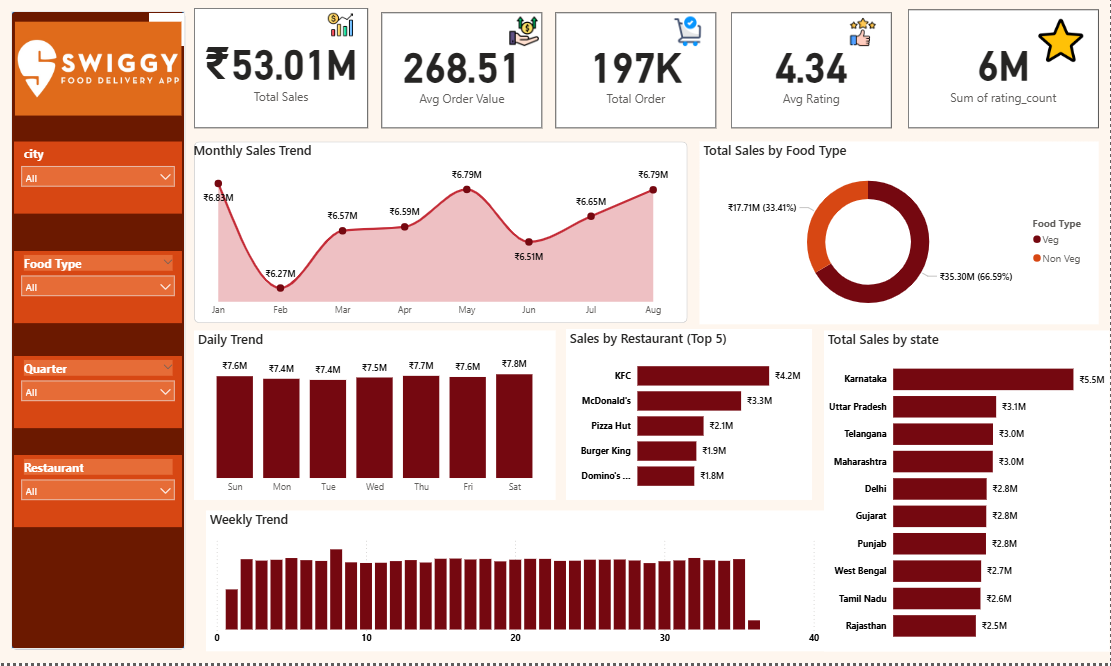

The page's visual inventory and layout, read from the dashboard file:
{"tool":"powerbi","page":{"name":"Page 1","canvas":[1500,900],"ordinal":0},"visuals":[{"type":"shape","box":[15.5,19.9,235,861.5],"z":0},{"type":"card","fields":{"Values":["fact_orders.Total Sales"]},"box":[263.1,16.2,234.8,161.9],"z":1000},{"type":"card","fields":{"Values":["fact_orders.Avg Order Value"]},"box":[516.1,22.3,216.6,155.9],"z":2000},{"type":"card","fields":{"Values":["fact_orders.Total Order"]},"box":[750.9,22.3,216.6,155.9],"z":3000},{"type":"card","fields":{"Values":["fact_orders.Avg Rating"]},"box":[987.7,22.3,216.6,155.9],"z":4000},{"type":"image","box":[423,16.2,74.9,44.5],"z":5000},{"type":"image","box":[665.9,22.3,85,50.6],"z":6000},{"type":"image","box":[892.6,22.3,72.9,50.6],"z":7000},{"type":"image","box":[1127.4,24.3,76.9,48.6],"z":8000},{"type":"image","box":[16.2,0,234.8,196.3],"z":9000},{"type":"shape","box":[263.1,196.3,665.9,244.9],"z":10000},{"type":"areaChart","title":"Monthly Sales Trend","fields":{"Category":["dim_date.Month"],"Y":["fact_orders.Total Sales"]},"box":[257.1,196.3,663.9,244.9],"z":11000},{"type":"card","fields":{"Values":["Sum(fact_orders.rating_count)"]},"box":[1226.6,18.2,257.1,159.9],"z":12000},{"type":"image","box":[1382.4,24.3,101.2,70.8],"z":13000},{"type":"donutChart","fields":{"Category":["dim_dish.Food Type"],"Y":["fact_orders.Total Sales"]},"box":[945.2,196.3,538.4,246.9],"z":14000},{"type":"clusteredColumnChart","title":"Daily Trend","fields":{"Category":["dim_date.Day"],"Y":["fact_orders.Total Sales"]},"box":[263.1,451.4,487.8,228.7],"z":15000},{"type":"clusteredBarChart","title":"Sales by Restaurant (Top 5)","fields":{"Category":["dim_restaurant.restaurant_name"],"Y":["fact_orders.Total Sales"]},"box":[765.1,449.3,331.9,230.7],"z":16000},{"type":"barChart","fields":{"Category":["dim_location.state"],"Y":["fact_orders.Total Sales"]},"box":[1113.2,451.4,386.6,433.1],"z":17000},{"type":"clusteredColumnChart","title":"Weekly Trend","fields":{"Category":["dim_date.Week Number"],"Y":["fact_orders.Total Sales"]},"box":[279.3,694.2,833.9,190.3],"z":18000},{"type":"slicer","fields":{"Values":["dim_location.city"]},"box":[20.2,196.3,226.7,97.2],"z":19000},{"type":"slicer","fields":{"Values":["dim_dish.Food Type"]},"box":[20.2,344.1,226.7,97.2],"z":20000},{"type":"slicer","fields":{"Values":["dim_date.Quarter"]},"box":[20.2,485.8,226.7,97.2],"z":21000},{"type":"slicer","fields":{"Values":["dim_restaurant.restaurant_name"]},"box":[20.2,619.4,226.7,97.2],"z":22000}]}

Visuals, with their boxes in screenshot pixels (x1, y1, x2, y2), scaled from the page's 1500x900 canvas onto the 1111x666 screenshot:
shape: [x1=11, y1=15, x2=186, y2=652]
card - fact_orders.Total Sales: [x1=195, y1=12, x2=369, y2=132]
card - fact_orders.Avg Order Value: [x1=382, y1=17, x2=543, y2=132]
card - fact_orders.Total Order: [x1=556, y1=17, x2=717, y2=132]
card - fact_orders.Avg Rating: [x1=732, y1=17, x2=892, y2=132]
image: [x1=313, y1=12, x2=369, y2=45]
image: [x1=493, y1=17, x2=556, y2=54]
image: [x1=661, y1=17, x2=715, y2=54]
image: [x1=835, y1=18, x2=892, y2=54]
image: [x1=12, y1=0, x2=186, y2=145]
shape: [x1=195, y1=145, x2=688, y2=326]
"Monthly Sales Trend" areaChart: [x1=190, y1=145, x2=682, y2=326]
card - Sum(fact_orders.rating_count): [x1=909, y1=13, x2=1099, y2=132]
image: [x1=1024, y1=18, x2=1099, y2=70]
donutChart - dim_dish.Food Type x fact_orders.Total Sales: [x1=700, y1=145, x2=1099, y2=328]
"Daily Trend" clusteredColumnChart: [x1=195, y1=334, x2=556, y2=503]
"Sales by Restaurant (Top 5)" clusteredBarChart: [x1=567, y1=332, x2=813, y2=503]
barChart - dim_location.state x fact_orders.Total Sales: [x1=825, y1=334, x2=1110, y2=655]
"Weekly Trend" clusteredColumnChart: [x1=207, y1=514, x2=825, y2=655]
slicer - dim_location.city: [x1=15, y1=145, x2=183, y2=217]
slicer - dim_dish.Food Type: [x1=15, y1=255, x2=183, y2=327]
slicer - dim_date.Quarter: [x1=15, y1=359, x2=183, y2=431]
slicer - dim_restaurant.restaurant_name: [x1=15, y1=458, x2=183, y2=530]
